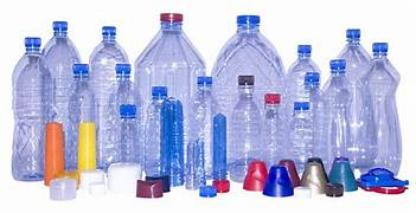Plastic Bottle: (108, 15, 212, 211), (209, 13, 288, 213), (308, 38, 404, 190), (8, 22, 86, 180), (345, 21, 401, 175), (100, 20, 146, 174), (321, 55, 357, 175)
